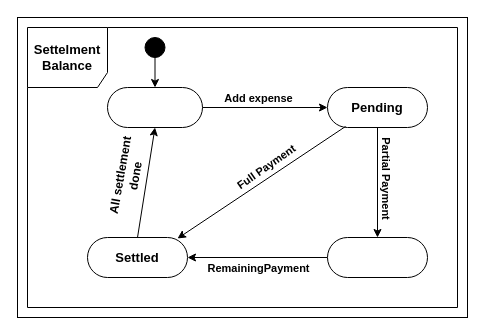
The diagram is 485 pixels wide and 335 high, and some of its shapes have lost their labels. Here are the shapes that lost their labels. From the top down, the centre of each, then its label:
the point at 154,107: Zero Amount
the point at 377,257: Partial Pending
